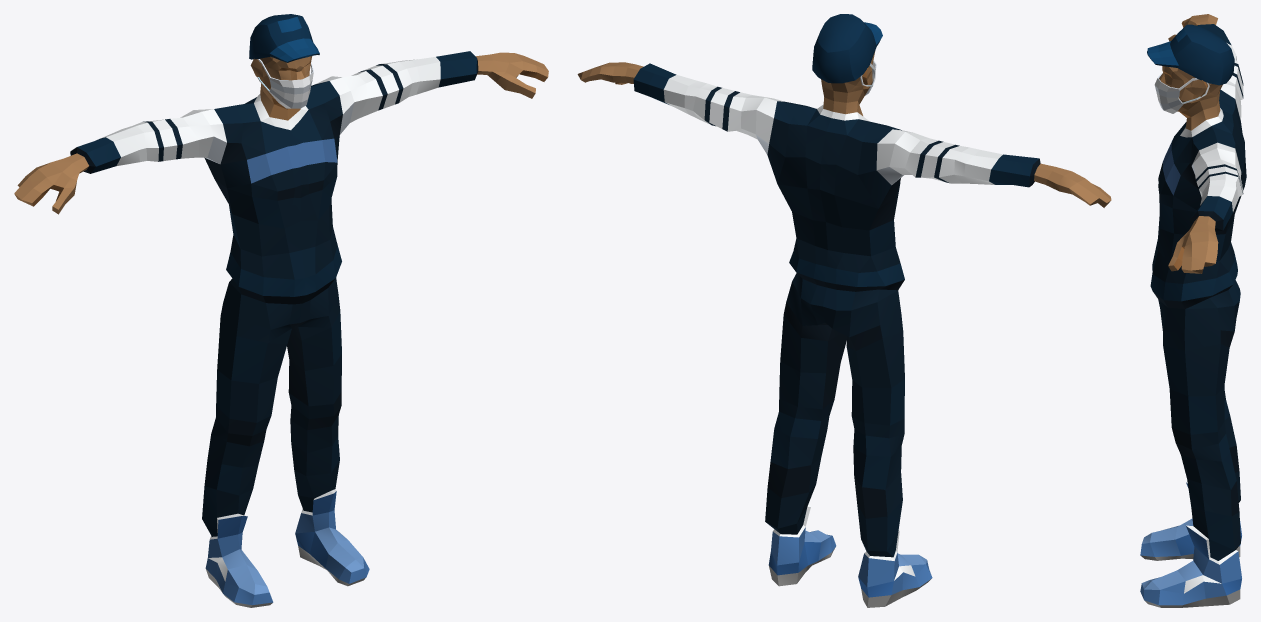
The model's file is casual_Male_H-model.obj.
3 renders of one model, left to right at view 1: azimuth 30°, elevation 25°; view 2: azimuth 150°, elevation 25°; view 3: azimuth 270°, elevation 25°, orthographic. The views are drawn at different scales.
Visible parts, largest first — view 1: casual_Male_H, acc_cap_dblue, acc_mask_white; view 2: casual_Male_H, acc_cap_dblue; view 3: casual_Male_H, acc_cap_dblue, acc_mask_white.
Part boxes in pixels (box(x1,y1,x2,y2)): casual_Male_H: box(14, 51, 548, 607); acc_cap_dblue: box(249, 14, 319, 62); acc_mask_white: box(257, 59, 313, 108); casual_Male_H: box(577, 51, 1111, 607); acc_cap_dblue: box(812, 14, 882, 83); casual_Male_H: box(1140, 14, 1246, 607); acc_cap_dblue: box(1147, 24, 1234, 85); acc_mask_white: box(1154, 73, 1209, 113).
Bounding box in the file's own units: 168 × 170 × 29.9.
